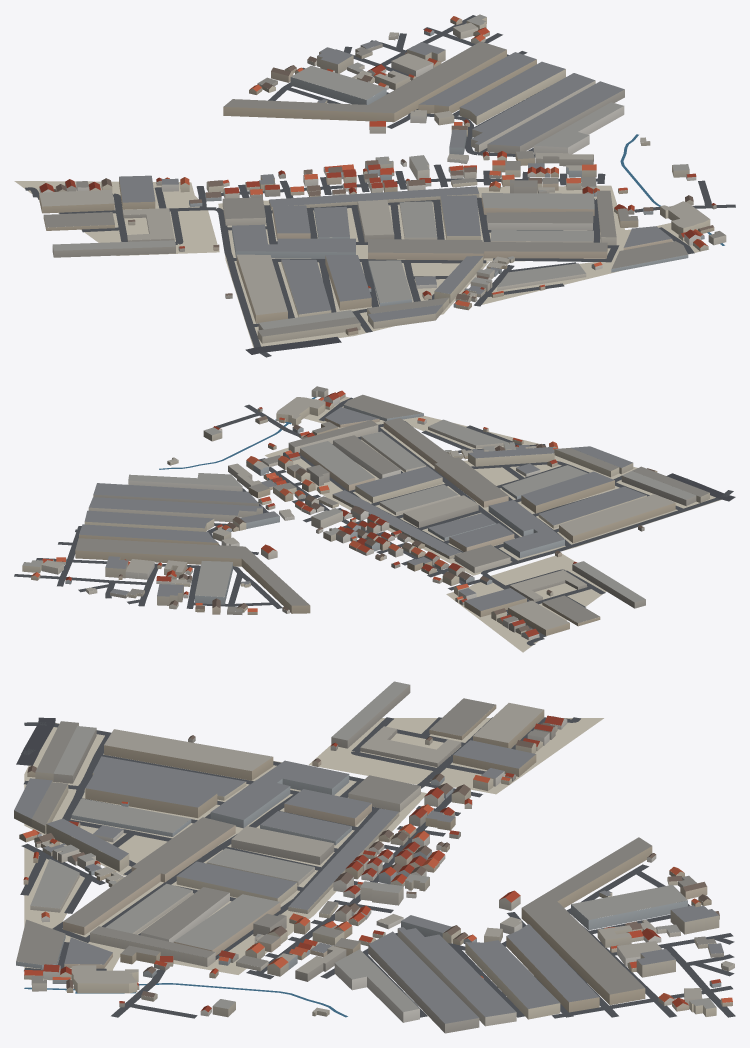
3 views of the same model, one above another, from view 1: azimuth 30°, elevation 25°; view 2: azimuth 150°, elevation 25°; view 3: azimuth 270°, elevation 25° (orthographic). The views are drawn at different scales.
Visible parts, largest first — view 1: buildings_roofs, buildings_walls, roads, landuse; view 2: buildings_roofs, buildings_walls, roads, landuse; view 3: buildings_roofs, buildings_walls, roads, landuse, water.
Part boxes in pixels (x1,y1,x2,y2): buildings_roofs: (39, 14, 725, 336); buildings_walls: (39, 17, 726, 343); roads: (25, 15, 735, 357); landuse: (14, 181, 700, 347); buildings_roofs: (22, 386, 709, 636); buildings_walls: (22, 389, 709, 640); roads: (14, 397, 735, 645); landuse: (265, 396, 721, 652); buildings_roofs: (14, 681, 734, 1023); buildings_walls: (14, 685, 734, 1033); roads: (16, 716, 735, 1018); landuse: (24, 718, 603, 980); water: (24, 983, 347, 1017).
Size of the model in its own units: 575 by 9.61 by 510.
